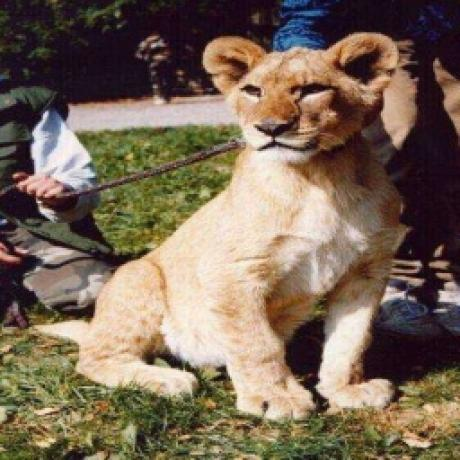Lion: (73, 31, 404, 419)
